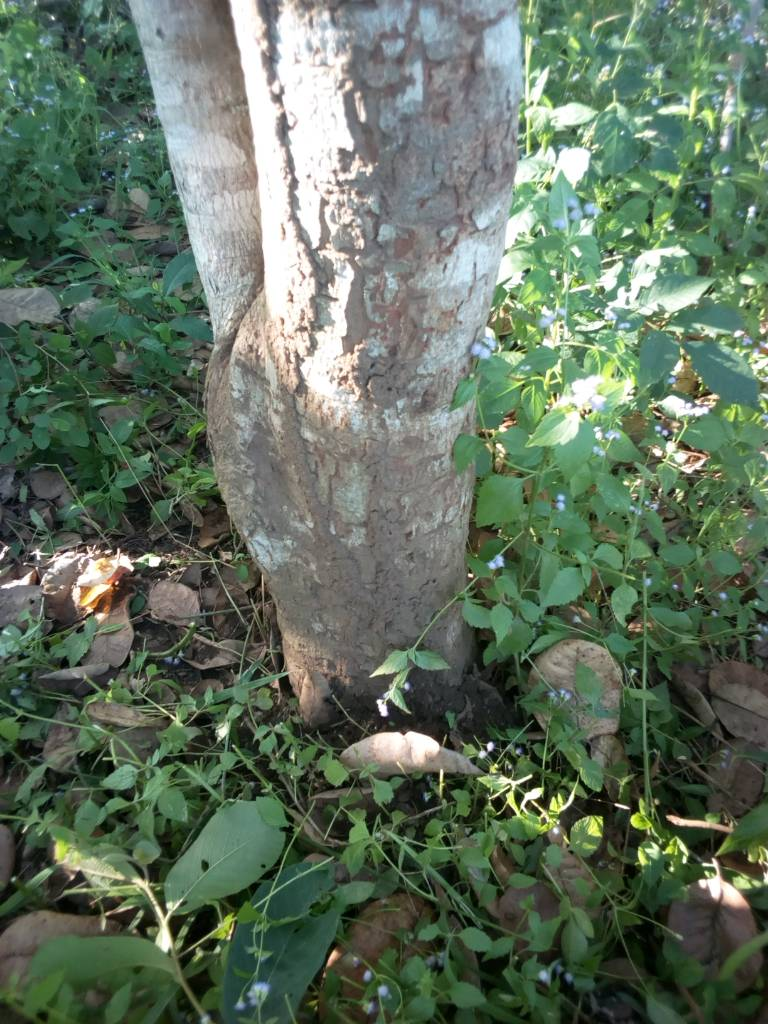Termites: (255, 52, 482, 446), (302, 466, 463, 694)
